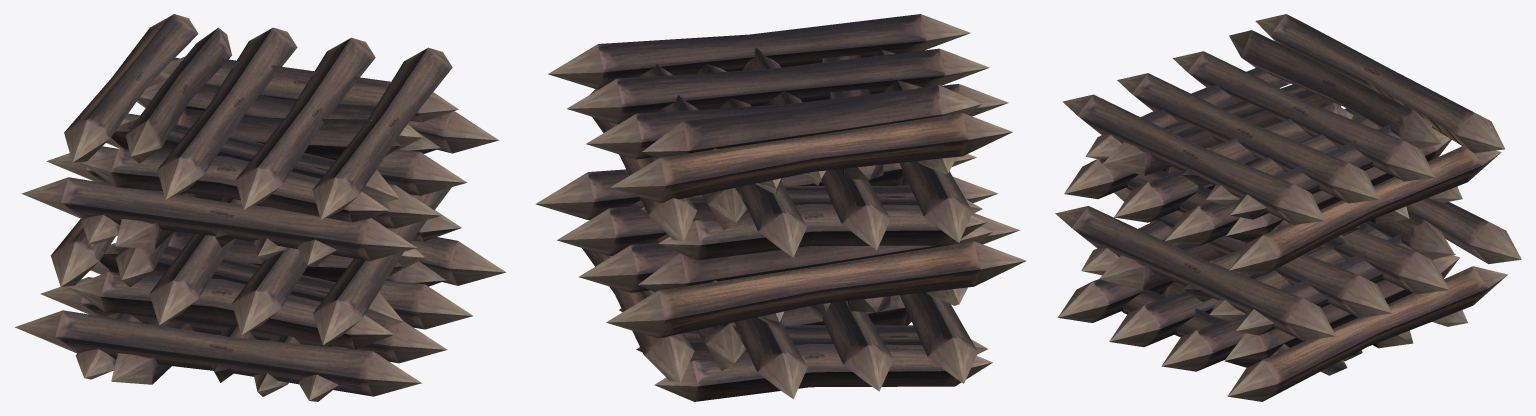
File: object_torchwood.fbx
3 renders of one model, left to right at view 1: azimuth 30°, elevation 25°; view 2: azimuth 150°, elevation 25°; view 3: azimuth 270°, elevation 25°, orthographic. The views are drawn at different scales.
Visible parts, largest first — view 1: obj1.033; view 2: obj1.033; view 3: obj1.033.
Part boxes in pixels (x1,y1,x2,y2): obj1.033: (15, 14, 505, 401); obj1.033: (535, 14, 1026, 401); obj1.033: (1055, 14, 1521, 401).
Size of the model in its own units: 1.74 by 1.04 by 1.76.
